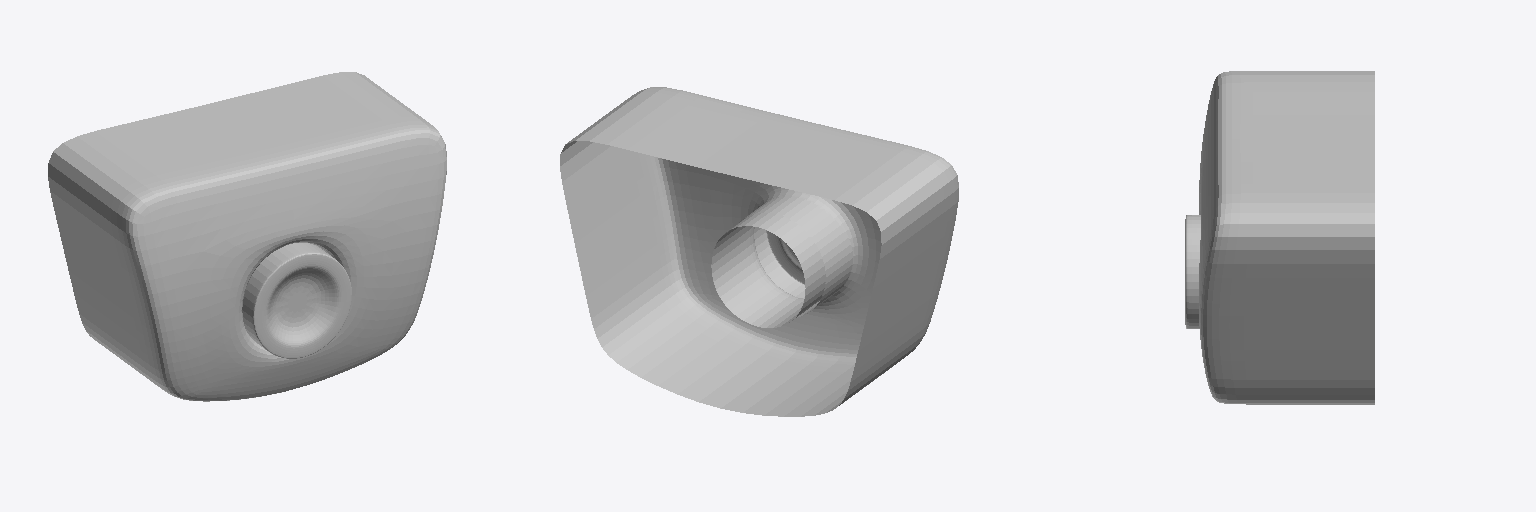
The model's file is newjoystick-highpoly.obj.
The picture shows the model from 3 angles: view 1: azimuth 30°, elevation 25°; view 2: azimuth 150°, elevation 25°; view 3: azimuth 270°, elevation 25°; orthographic projection.
Parts seen in each view (by area): view 1: control_ce, control_jo; view 2: control_ce, control_jo; view 3: control_ce, control_jo.
Part boxes in pixels (x1,y1,x2,y2): control_ce: (48, 72, 446, 401); control_jo: (242, 243, 351, 358); control_ce: (560, 87, 958, 416); control_jo: (739, 196, 852, 317); control_ce: (1199, 71, 1374, 404); control_jo: (1185, 215, 1200, 328).
Size of the model in its own units: 257 by 180 by 131.